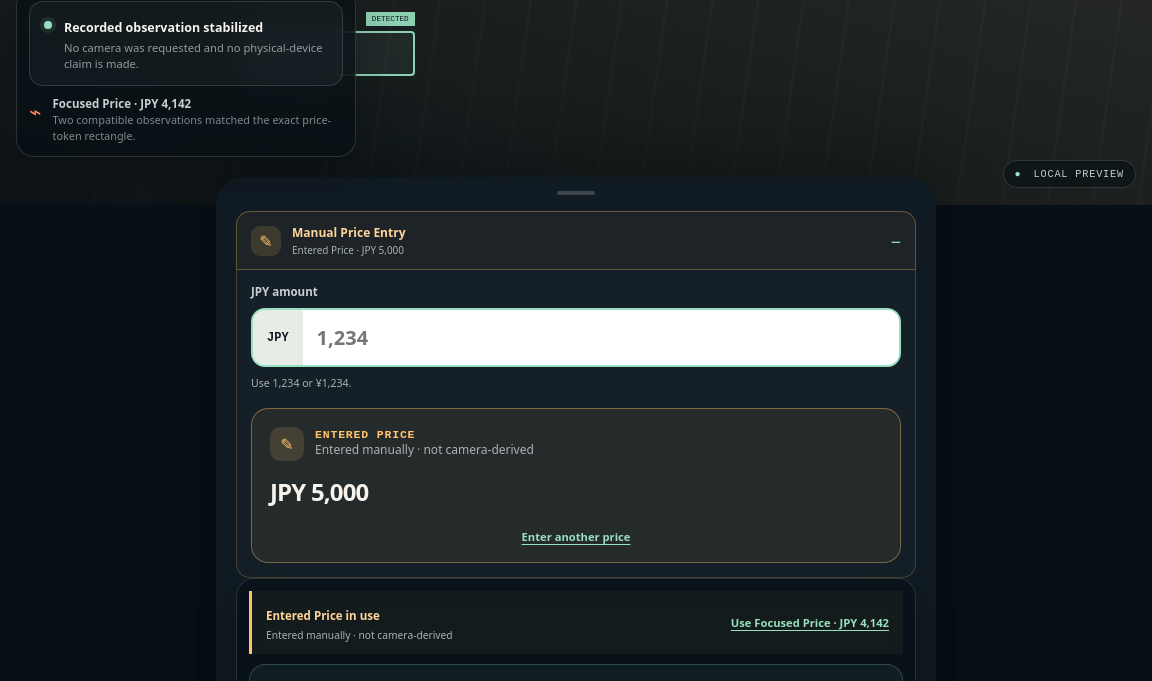
Test: Camera Workspace boundary › keeps the current Entered Price conversion when a new draft is incomplete or invalid
(page scrolled)
Type "1e3" into the field labelled "JPY amount" at (601, 338), box x1=303 y1=310 x2=899 y2=365
Wait 300 ms
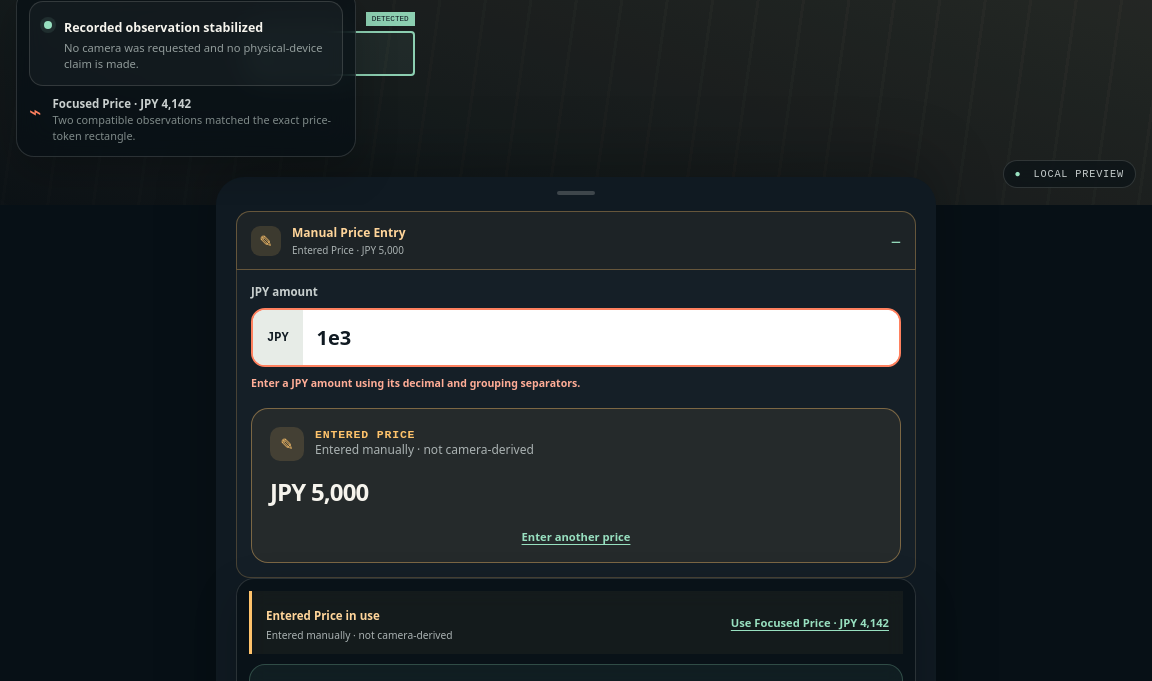
Expected: the message named "price used for conversion" shows "Entered Price in use", x1=266 y1=608 x2=380 y2=623
Expected: the text "decimal and grouping separators" is shown, x1=251 y1=376 x2=580 y2=390
Replace the text in the field labelled "JPY amount" with "6," at (601, 338), box x1=303 y1=310 x2=899 y2=365
Wait 300 ms
(page scrolled)
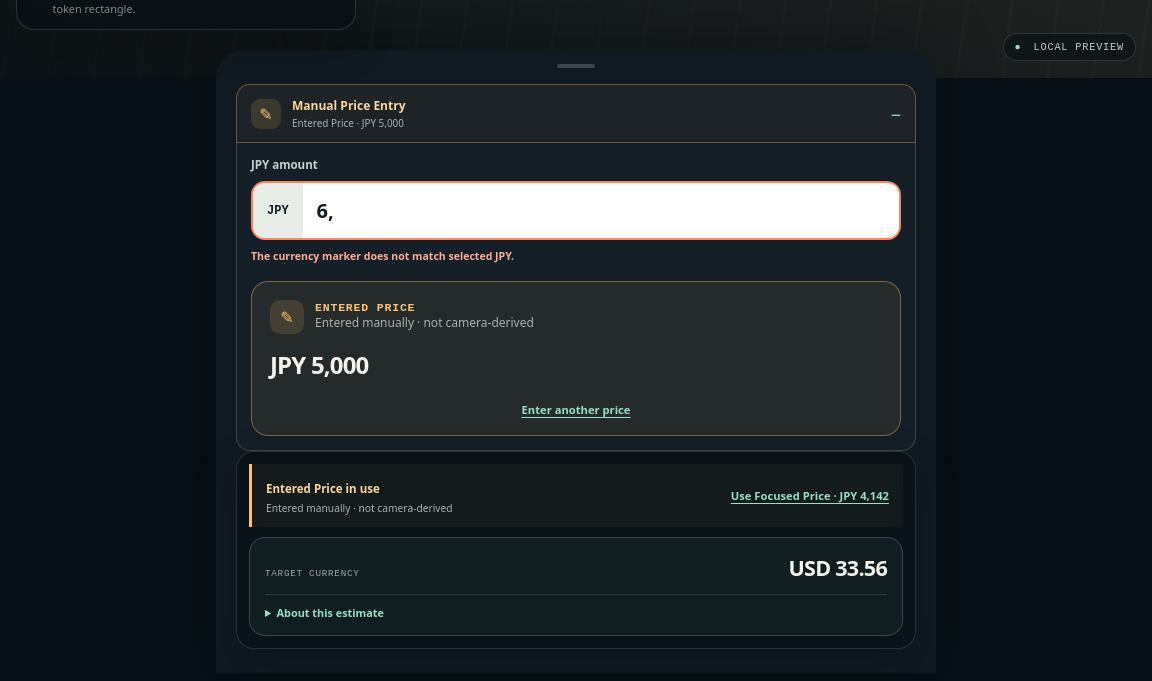
Expected: the text "USD 33.56" is shown, x1=788 y1=553 x2=887 y2=582
Expected: the text "The currency marker does not match selected JPY." is shown, x1=251 y1=249 x2=514 y2=263
